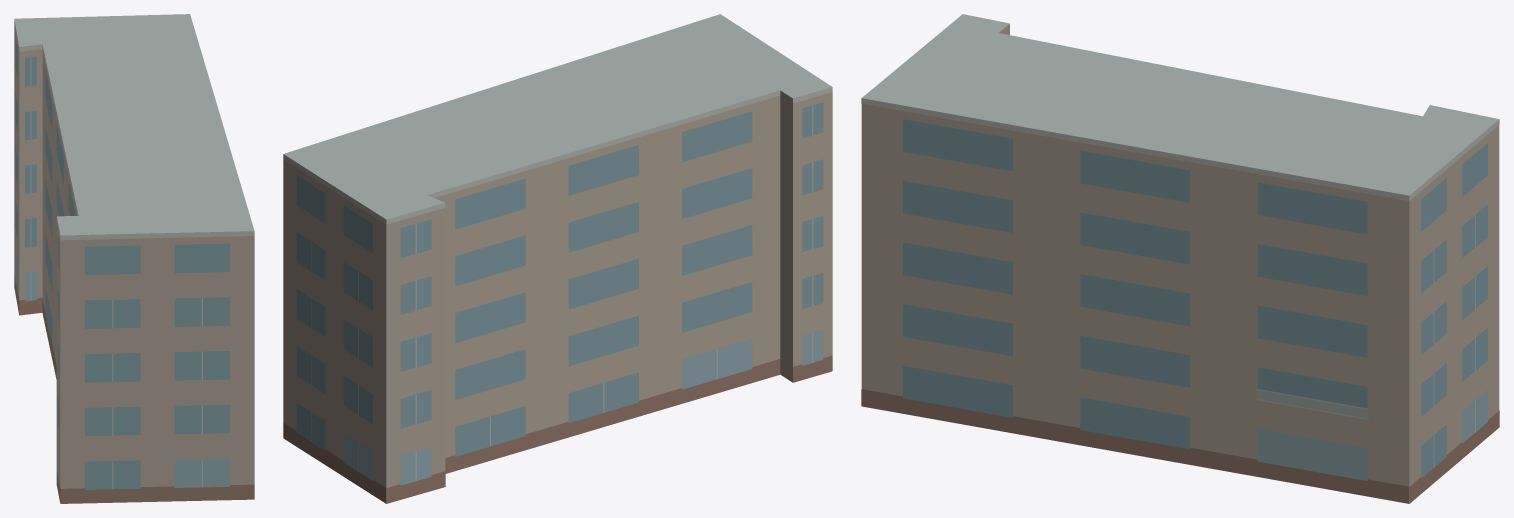
File: survey-upis-32946617.glb
3 views of the same model, side by side, from view 1: azimuth 30°, elevation 25°; view 2: azimuth 150°, elevation 25°; view 3: azimuth 270°, elevation 25° (orthographic). The views are drawn at different scales.
Visible parts, largest first — view 1: survey-upis-32946617.tmp; view 2: survey-upis-32946617.tmp; view 3: survey-upis-32946617.tmp.
Boxes of the visible parts, left/top/right/bottom form: survey-upis-32946617.tmp: left=14, top=14, right=254, bottom=503; survey-upis-32946617.tmp: left=283, top=14, right=832, bottom=503; survey-upis-32946617.tmp: left=861, top=14, right=1499, bottom=503.
Size of the model in its own units: 17.33 by 13.7 by 25.71.
